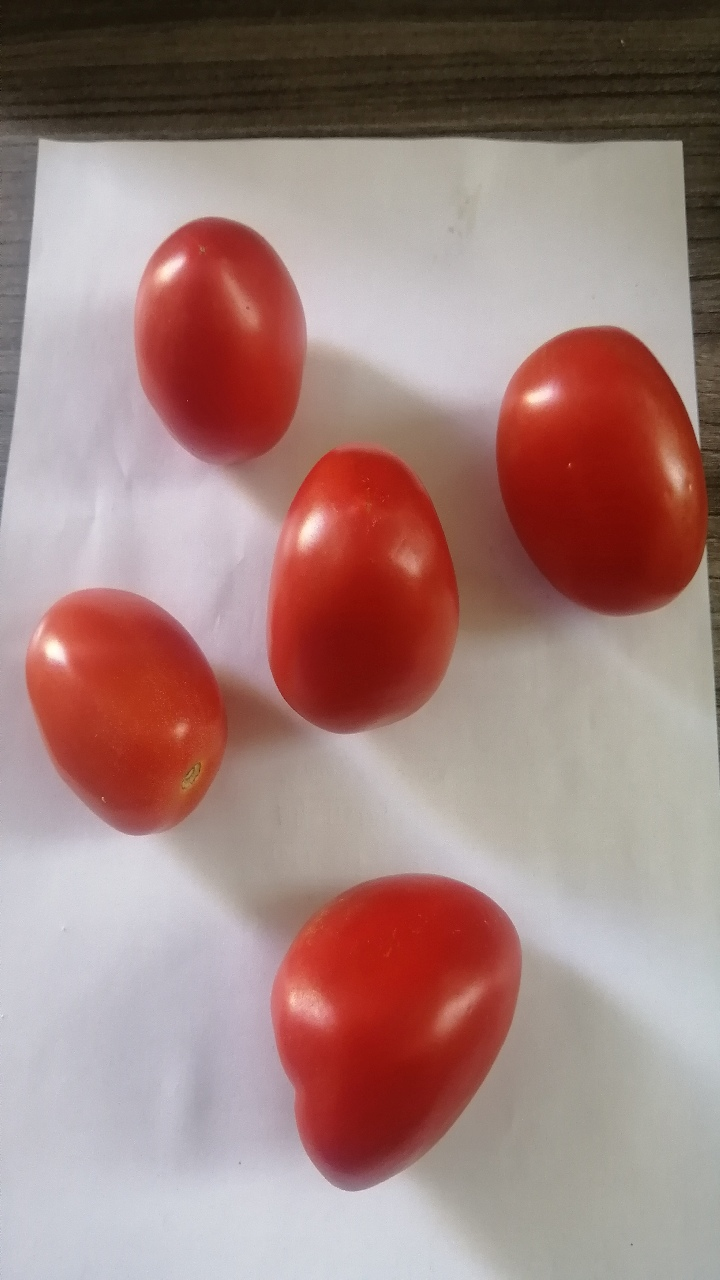tomateRojo: (254, 854, 546, 1211), (475, 314, 720, 639), (246, 443, 483, 754), (11, 565, 246, 855), (115, 205, 317, 479)
